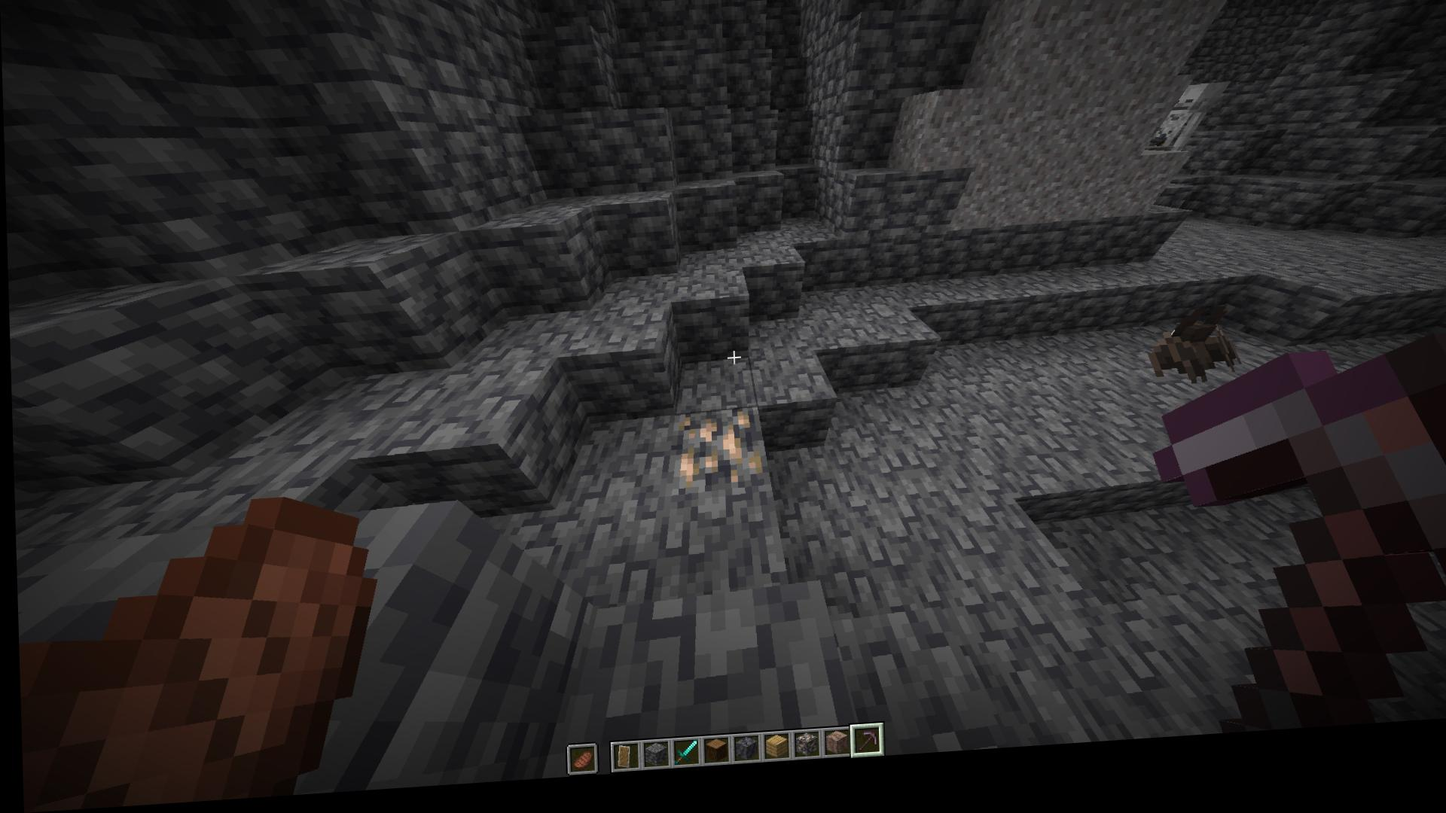iron ore: (671, 416, 764, 511)
